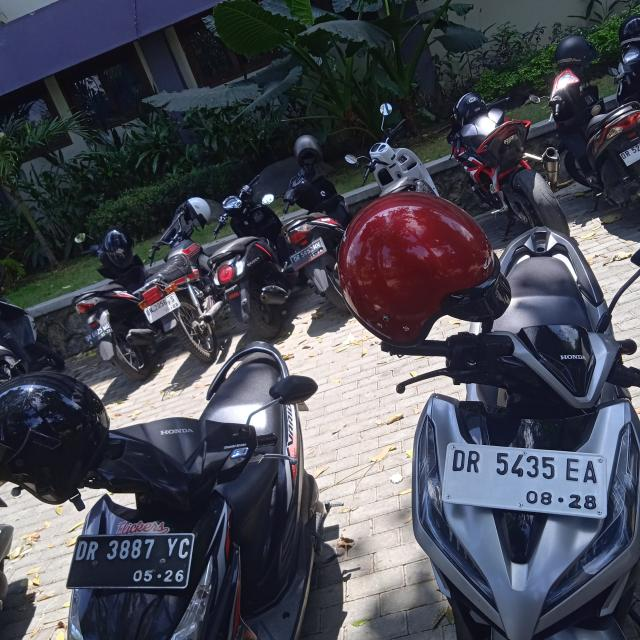plate: (440, 441, 618, 523), (66, 532, 196, 590)
